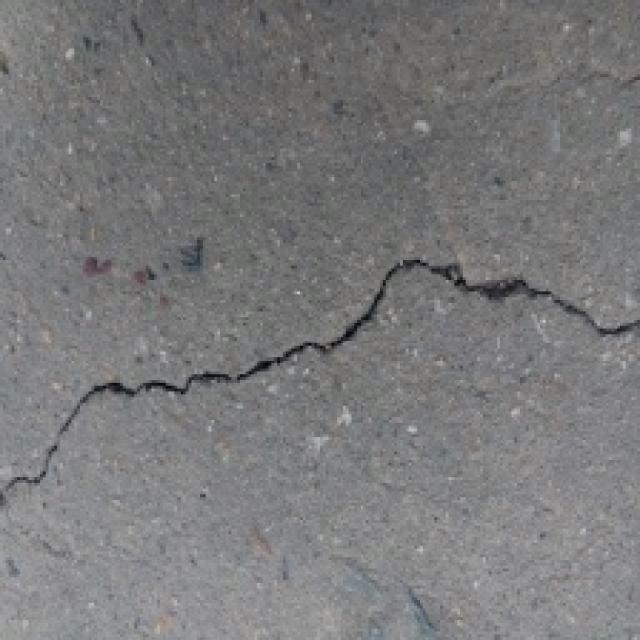crack: (0, 232, 640, 518)
